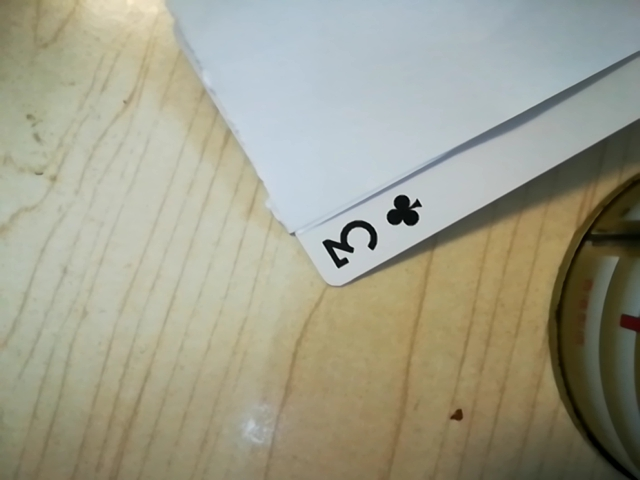mh 3: (315, 181, 434, 279)
